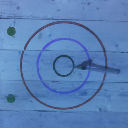Axe Tip: (75, 64, 86, 67)
